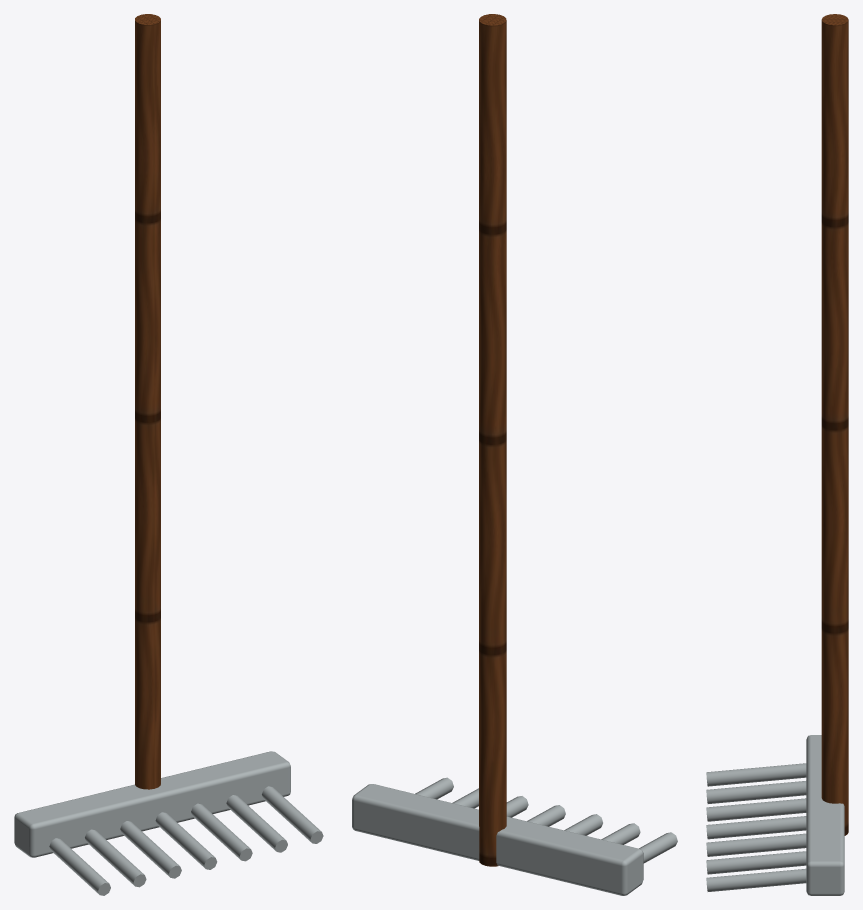
Rendered from flooded-and-coastal-survival-clam-rake-340fcf7b__20083.glb.
The picture shows the model from 3 angles, left to right: view 1: azimuth 30°, elevation 25°; view 2: azimuth 150°, elevation 25°; view 3: azimuth 270°, elevation 25°; orthographic projection. The views are drawn at different scales.
Parts seen in each view (by area): view 1: clam-rake; view 2: clam-rake; view 3: clam-rake.
Part boxes in pixels (left/top/right/bottom): clam-rake: left=14, top=14, right=323, bottom=895; clam-rake: left=352, top=14, right=677, bottom=895; clam-rake: left=706, top=14, right=848, bottom=895.
Bounding box in the file's own units: 0.48 × 1.41 × 0.2222.
Materials: 2 (1 with a texture image).
